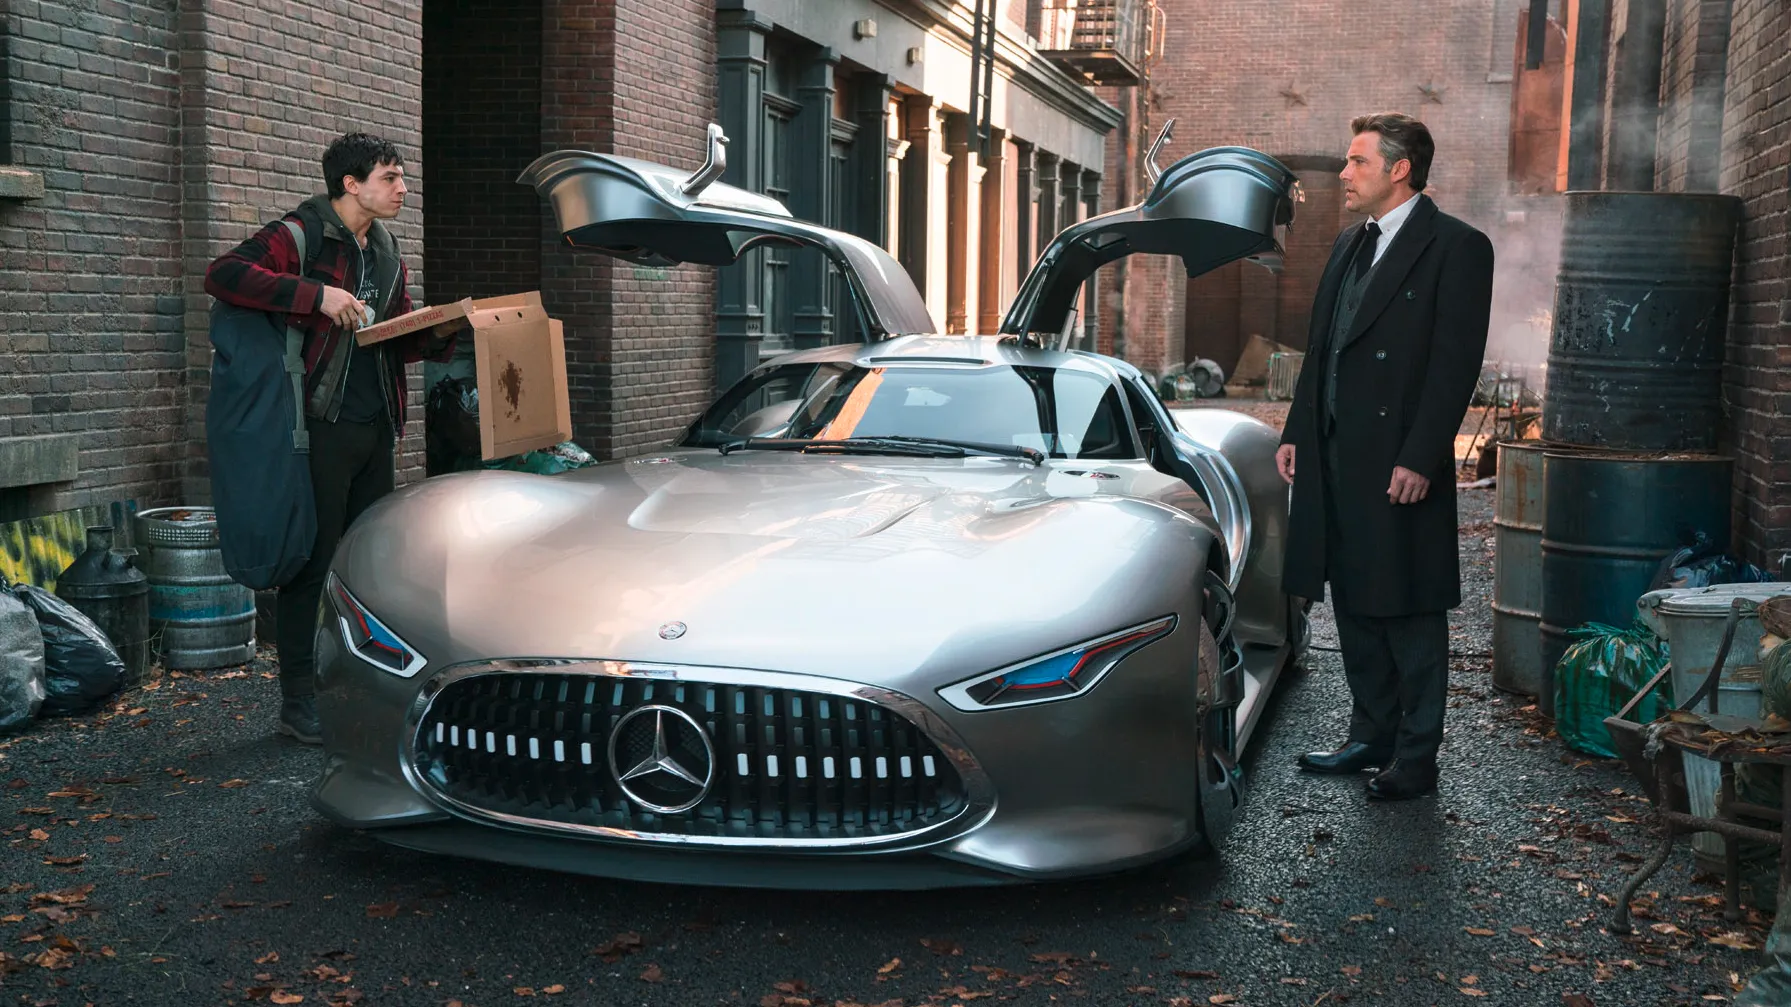car: (330, 357, 1304, 888)
human: (1336, 125, 1467, 790), (301, 139, 409, 495)
